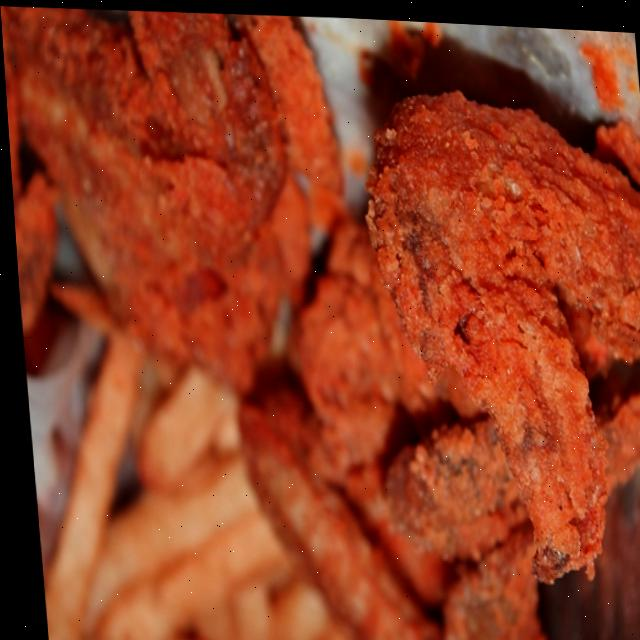鸡肉料理 含炸鸡: (18, 19, 640, 638)
